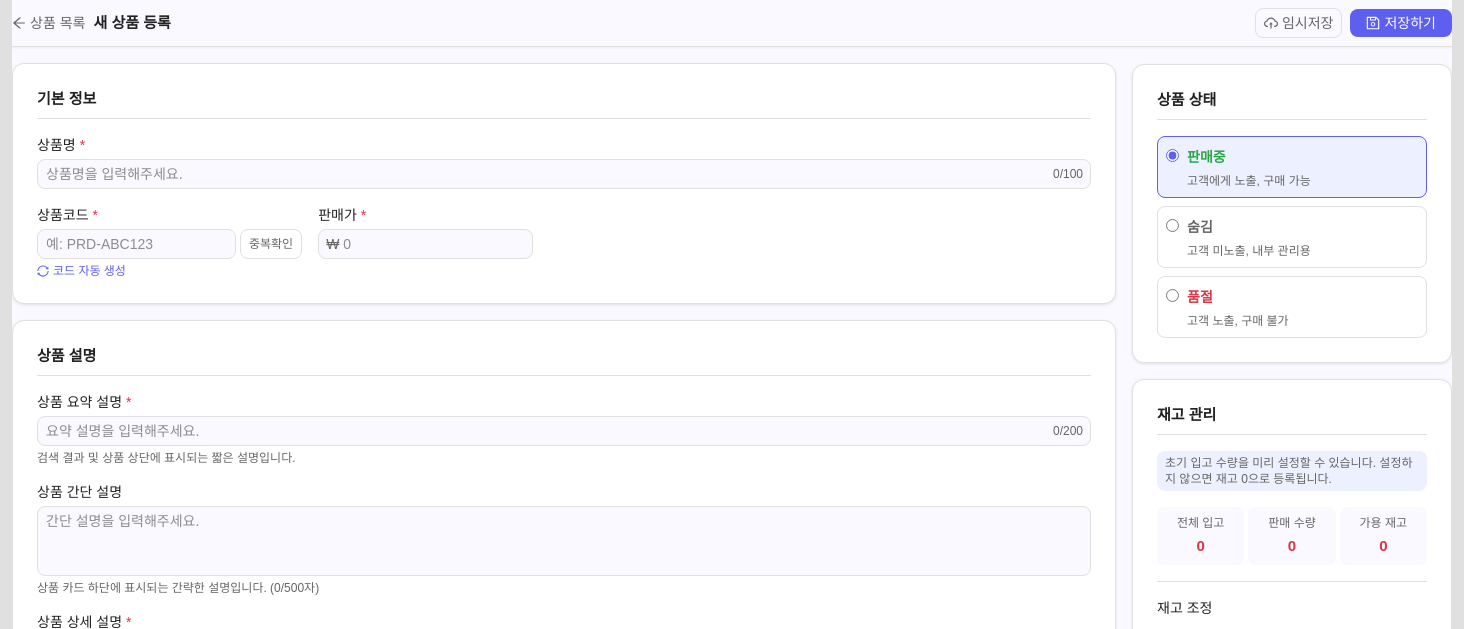
Test case: 상품코드 중복 확인 › 사용 가능한 코드 확인 시 성공 메시지 표시
Type "NEW-CODE-001" into the field with placeholder "예: PRD-ABC123" at (136, 244), box left=37, top=229, right=236, bottom=259
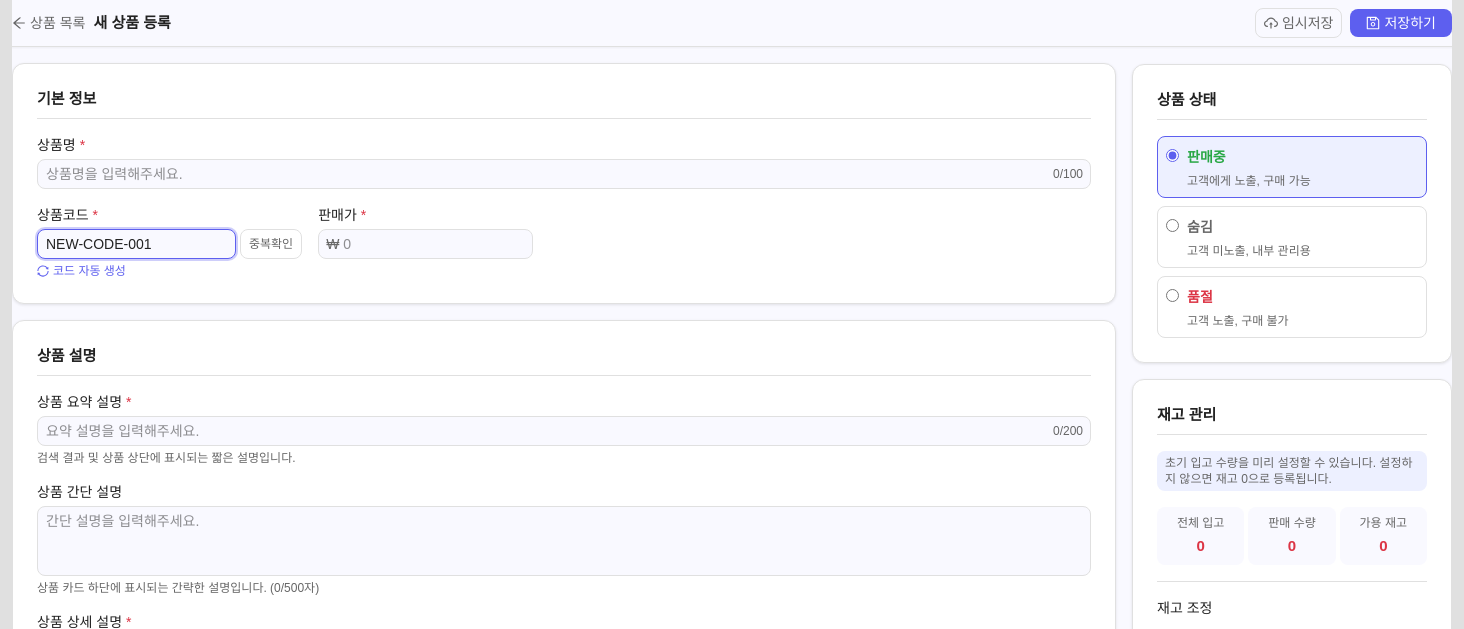
Click the button with aria-label "상품코드 중복 확인" at (271, 244), box left=240, top=229, right=302, bottom=259
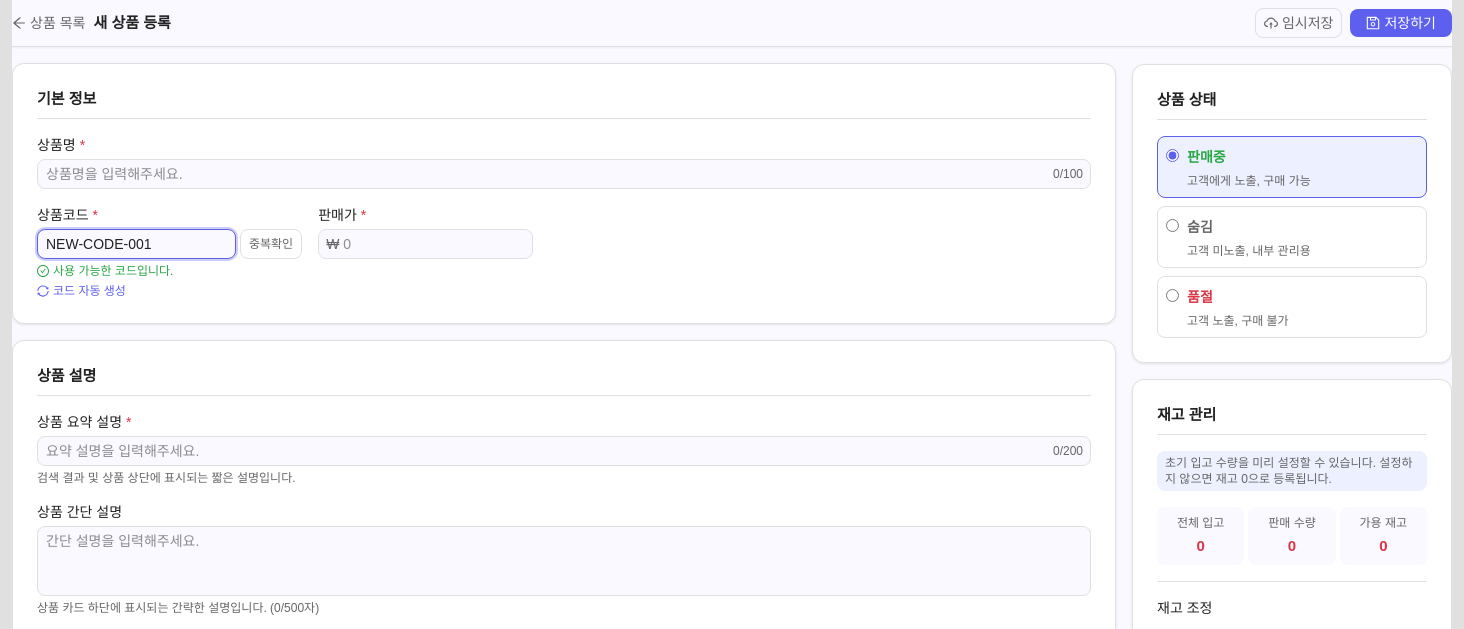
Expected: the text "사용 가능한 코드입니다." is shown, left=37, top=264, right=173, bottom=278
